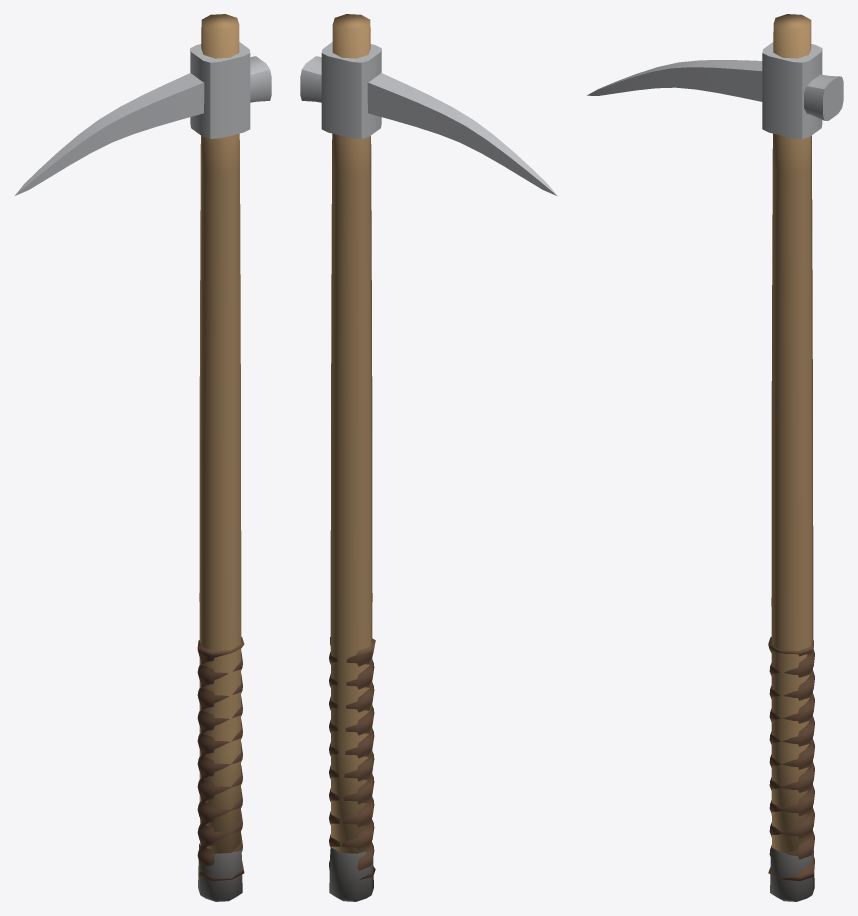
The model's file is heavy-pick.glb.
The picture shows the model from 3 angles, left to right: view 1: azimuth 30°, elevation 25°; view 2: azimuth 150°, elevation 25°; view 3: azimuth 330°, elevation 25°; orthographic projection.
Parts seen in each view (by area): view 1: heavy-pick; view 2: heavy-pick; view 3: heavy-pick.
Boxes of the visible parts, x1,y1,x2,y2 form: heavy-pick: [15, 14, 271, 901]; heavy-pick: [300, 14, 556, 901]; heavy-pick: [587, 14, 843, 901].
Size of the model in its own units: 0.542 by 1.83 by 0.0885.
